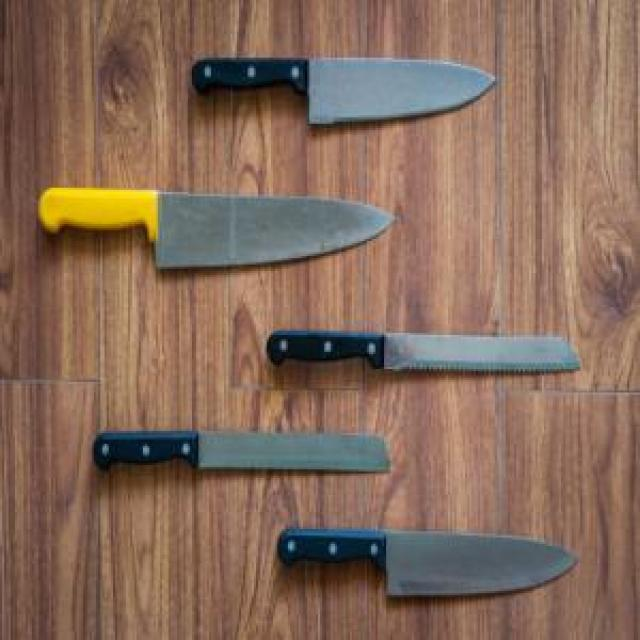knife: (32, 184, 402, 273), (192, 53, 502, 146), (278, 525, 580, 612), (266, 322, 584, 399), (92, 427, 394, 486)
